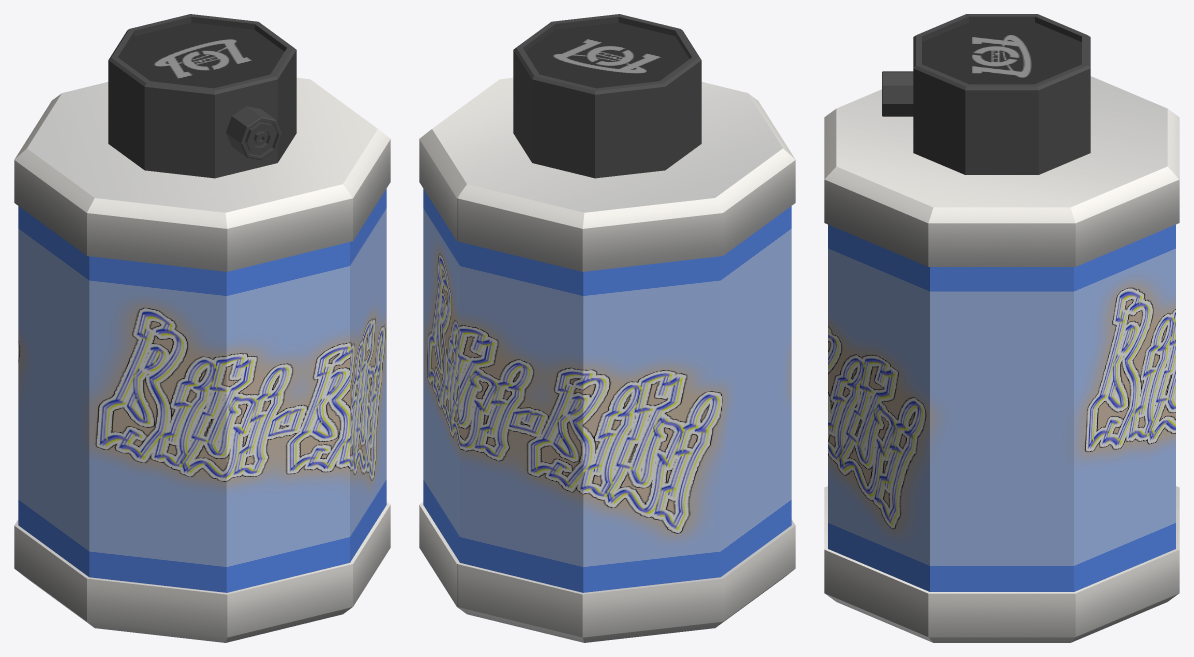
The model's file is ST_spray_B.fbx.
The picture shows the model from 3 angles, left to right: view 1: azimuth 30°, elevation 25°; view 2: azimuth 150°, elevation 25°; view 3: azimuth 270°, elevation 25°; orthographic projection.
Visible parts, largest first — view 1: pCylinder1, pCylinder4, pCylinder3; view 2: pCylinder1, pCylinder4; view 3: pCylinder1, pCylinder4, pCylinder3.
Boxes of the visible parts, left/top/right/bottom form: pCylinder1: left=14, top=77, right=390, bottom=642; pCylinder4: left=108, top=14, right=296, bottom=178; pCylinder3: left=226, top=106, right=281, bottom=160; pCylinder1: left=419, top=77, right=795, bottom=642; pCylinder4: left=513, top=14, right=701, bottom=178; pCylinder1: left=824, top=76, right=1179, bottom=642; pCylinder4: left=913, top=14, right=1090, bottom=174; pCylinder3: left=882, top=71, right=913, bottom=116.
Bounding box in the file's own units: 1.85 × 3 × 1.85.
Materials: 2 (2 with a texture image).
